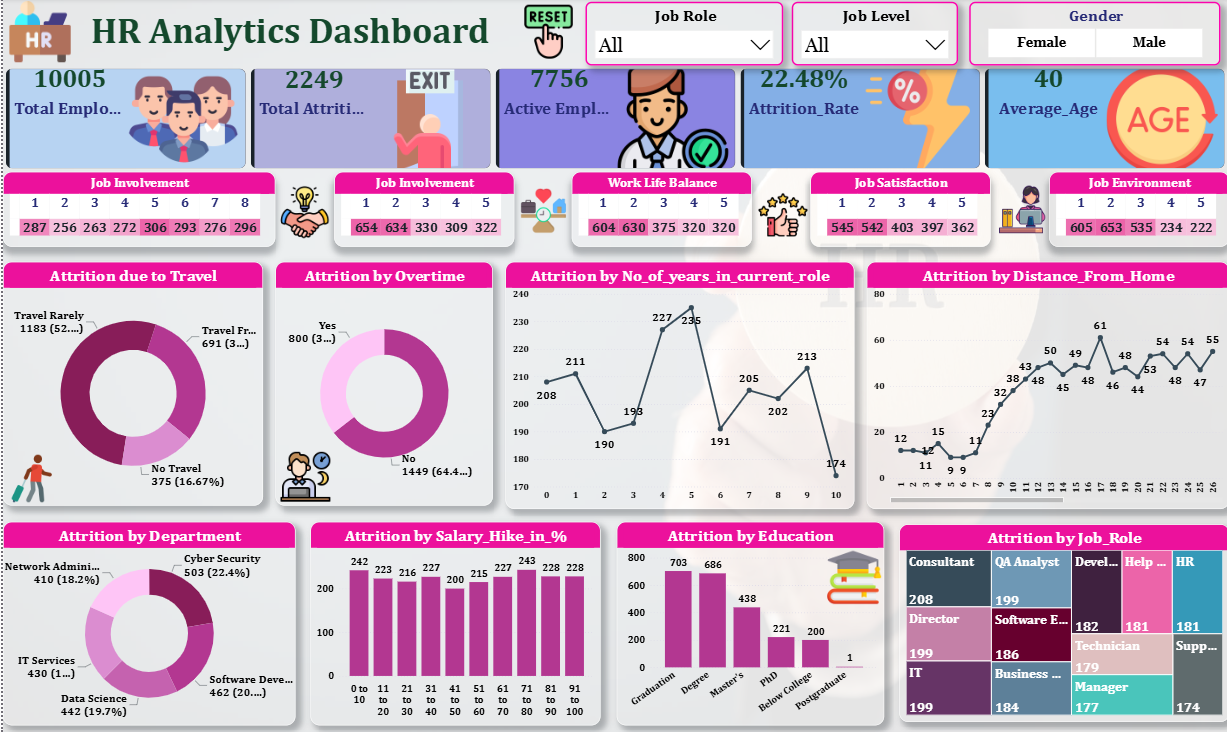

Layout of this report page (visuals, bound fields, positions):
{"tool":"powerbi","page":{"name":"Page 1","canvas":[2000,1200],"ordinal":0},"visuals":[{"type":"cardVisual","fields":{"Data":["CountNonNull(Employees.Employee_ID)","Employees.Attrition_YES","Employees.Attrition_NO","Employees.Attrition_Rate","Employees.Average_Age"]},"box":[0,110.1,1999.3,173.2],"z":0},{"type":"donutChart","title":"Attrition by Department","fields":{"Category":["Employees.Department"],"Y":["Employees.Attrition_YES"]},"box":[0,853.9,476.9,332.2],"z":1000},{"type":"treemap","title":"Attrition by Job_Role","fields":{"Group":["Employees.Job_Role"],"Values":["Employees.Attrition_YES"]},"box":[1461.9,858.8,538,322],"z":2000},{"type":"lineChart","title":"Attrition by Distance_From_Home","fields":{"Category":["Employees.Distance_From_Home"],"Y":["Employees.Attrition_YES"]},"box":[1408.3,430,591,403.5],"z":3000},{"type":"donutChart","title":"Attrition by Overtime","fields":{"Category":["Employees.Overtime"],"Y":["Employees.Attrition_YES"]},"box":[444.3,430,354.6,397.4],"z":4000},{"type":"pivotTable","title":"Job Satisfaction","fields":{"Columns":["Employees.Job_Satisfaction"],"Values":["Employees.Attrition_YES"]},"box":[1317.1,283.3,293.5,122.3],"z":5000},{"type":"pivotTable","title":"Job Environment","fields":{"Columns":["Employees.Environemnt_Satisfaction"],"Values":["Employees.Attrition_YES"]},"box":[1705.9,283.3,293.5,122.3],"z":6000},{"type":"pivotTable","title":"Work Life Balance","fields":{"Values":["Employees.Attrition_YES"],"Columns":["Employees.Work_life_balance"]},"box":[928.3,283.3,293.5,122.3],"z":7000},{"type":"donutChart","title":"Attrition due to Travel","fields":{"Category":["Employees.Business_Travel"],"Y":["Employees.Attrition_YES"]},"box":[0,430,423.9,397.4],"z":8000},{"type":"lineChart","title":"Attrition by No_of_years_in_current_role","fields":{"Category":["Employees.No_of_years_in_current_role"],"Y":["Employees.Attrition_YES"]},"box":[819.3,430,568.6,403.5],"z":9000},{"type":"columnChart","title":"Attrition by Salary_Hike_in_%","fields":{"Y":["Employees.Attrition_YES"],"Category":["Employees.Salary_Hike_in_percent (groups)"]},"box":[502.3,853.9,472.8,332.2],"z":10000},{"type":"columnChart","title":"Attrition by Education","fields":{"Y":["Employees.Attrition_YES"],"Category":["Employees.Education"]},"box":[1000.5,853.9,436,332.2],"z":11000},{"type":"pivotTable","title":"Job Involvement","fields":{"Values":["Employees.Attrition_YES"],"Columns":["Employees.Job_Involvement"]},"box":[539.6,283.3,293.5,122.3],"z":12000},{"type":"pivotTable","title":"Job Involvement","fields":{"Values":["Employees.Attrition_YES"],"Columns":["Employees.Job_Level"]},"box":[0,283.3,444.3,122.3],"z":13000},{"type":"textbox","box":[138.6,12.2,676.6,85.6],"z":14000},{"type":"image","box":[0,0,120.2,110.1],"z":15000},{"type":"image","box":[1618.2,295.5,87.6,97.8],"z":16000},{"type":"image","box":[1226.9,301.6,89.7,103.9],"z":17000},{"type":"image","box":[835.6,295.5,91.7,101.9],"z":18000},{"type":"image","box":[444.3,301.6,95.8,95.8],"z":19000},{"type":"image","box":[0,739.8,93.8,87.6],"z":20000},{"type":"image","box":[446.3,733.7,93.8,93.8],"z":21000},{"type":"image","box":[1339,894.7,97.8,99.9],"z":22000},{"type":"slicer","title":"Gender","fields":{"Values":["Employees.Gender"]},"box":[1575.4,6.1,409.6,103.9],"z":23000},{"type":"slicer","title":"Job Level","fields":{"Values":["Employees.Job_Level"]},"box":[1286,6.1,271.1,103.9],"z":24000},{"type":"slicer","title":"Job Role","fields":{"Values":["Employees.Job_Role"]},"box":[949.7,6.1,322,103.9],"z":25000},{"type":"image","box":[833.6,6.1,112.1,97.8],"z":26000}]}

Visuals, with their boxes in screenshot pixels (x1, y1, x2, y2), scaled from the page's 2000x1200 canvas onto the 1227x732 screenshot:
cardVisual - CountNonNull(Employees.Employee_ID) x Employees.Attrition_YES: [0, 67, 1226, 173]
"Attrition by Department" donutChart: [0, 521, 293, 724]
"Attrition by Job_Role" treemap: [897, 524, 1226, 720]
"Attrition by Distance_From_Home" lineChart: [864, 262, 1226, 508]
"Attrition by Overtime" donutChart: [273, 262, 490, 505]
"Job Satisfaction" pivotTable: [808, 173, 988, 247]
"Job Environment" pivotTable: [1047, 173, 1226, 247]
"Work Life Balance" pivotTable: [570, 173, 750, 247]
"Attrition due to Travel" donutChart: [0, 262, 260, 505]
"Attrition by No_of_years_in_current_role" lineChart: [503, 262, 851, 508]
"Attrition by Salary_Hike_in_%" columnChart: [308, 521, 598, 724]
"Attrition by Education" columnChart: [614, 521, 881, 724]
"Job Involvement" pivotTable: [331, 173, 511, 247]
"Job Involvement" pivotTable: [0, 173, 273, 247]
textbox: [85, 7, 500, 60]
image: [0, 0, 74, 67]
image: [993, 180, 1047, 240]
image: [753, 184, 808, 247]
image: [513, 180, 569, 242]
image: [273, 184, 331, 242]
image: [0, 451, 58, 505]
image: [274, 448, 331, 505]
image: [821, 546, 881, 607]
"Gender" slicer: [967, 4, 1218, 67]
"Job Level" slicer: [789, 4, 955, 67]
"Job Role" slicer: [583, 4, 780, 67]
image: [511, 4, 580, 63]
